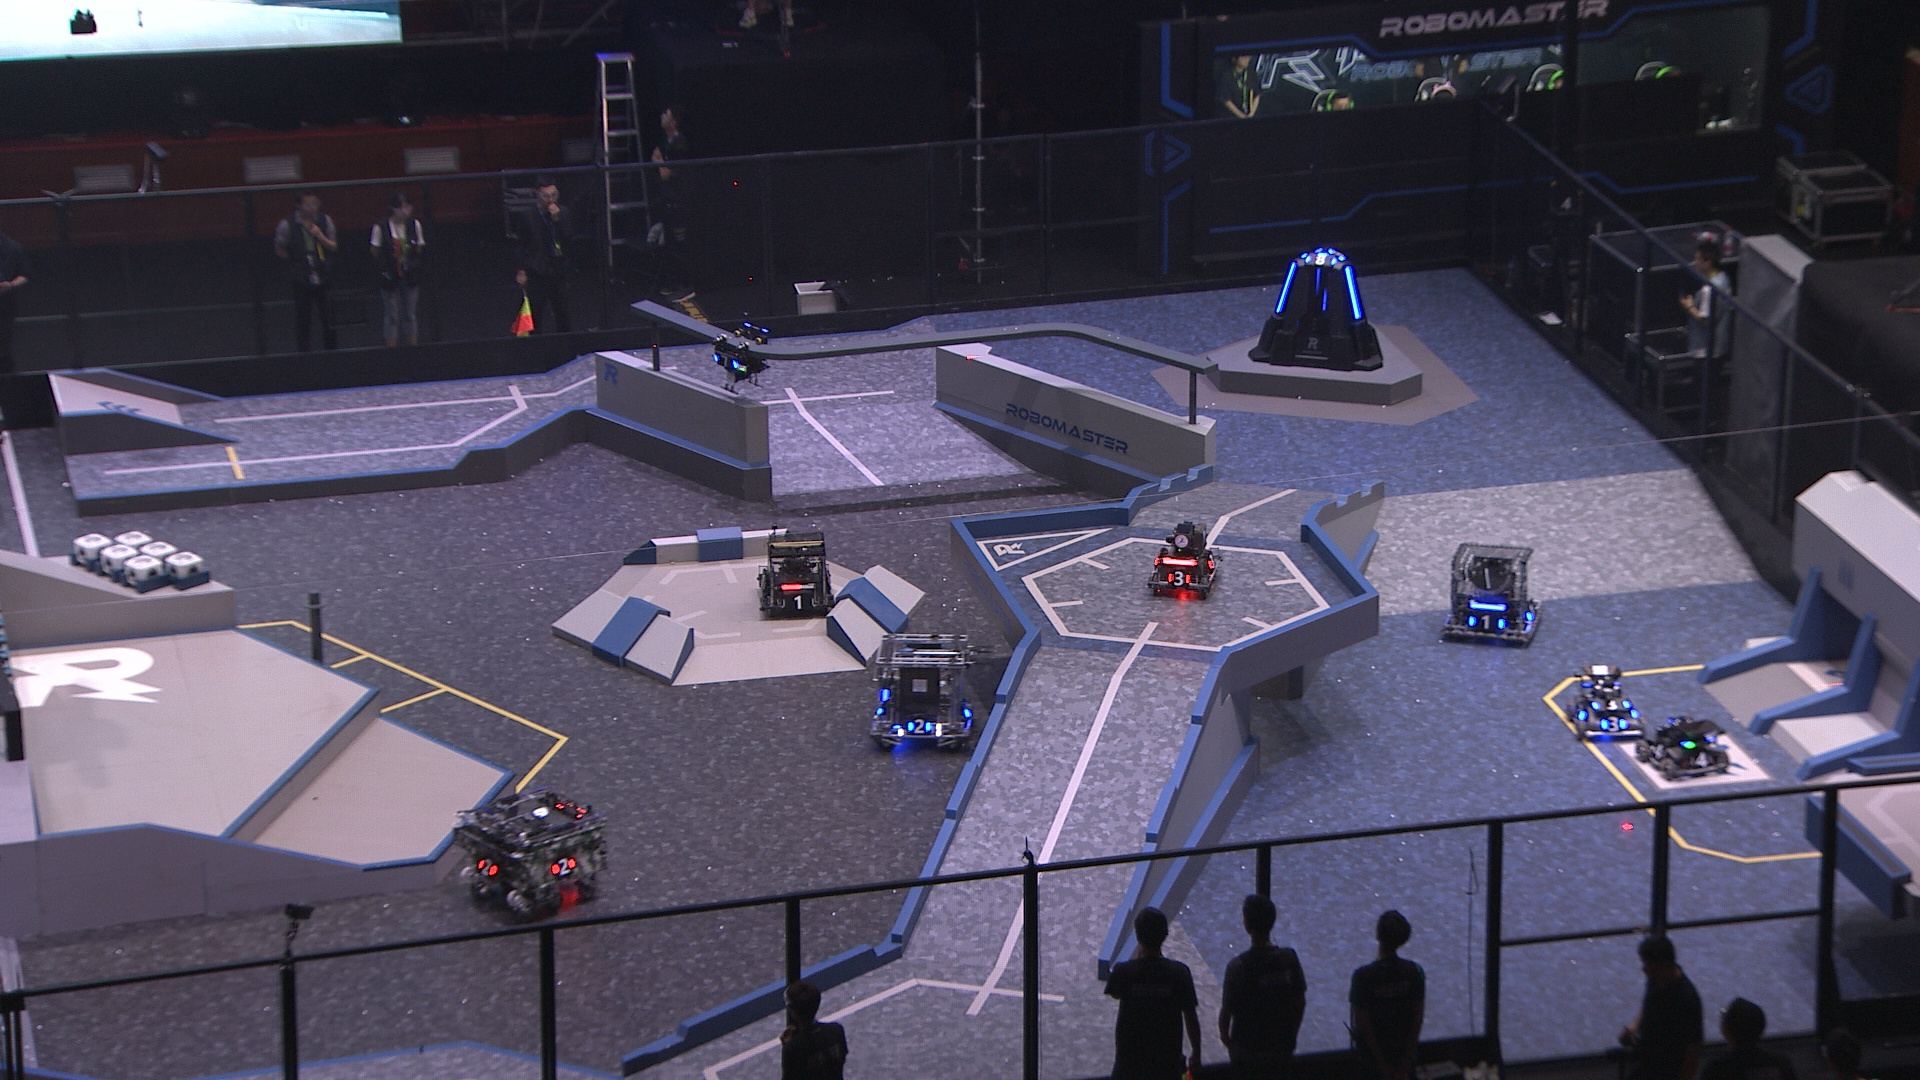armor: (1273, 262, 1295, 310), (1346, 266, 1362, 323), (1466, 613, 1505, 633), (781, 593, 816, 613), (712, 351, 740, 372), (1302, 252, 1337, 266), (1688, 750, 1714, 769), (1647, 738, 1665, 765), (476, 856, 498, 877), (1167, 570, 1192, 588), (1600, 716, 1629, 732), (905, 717, 931, 735), (551, 858, 578, 876), (1572, 702, 1588, 727), (1523, 600, 1536, 626), (1594, 699, 1623, 711), (757, 568, 771, 589), (1207, 553, 1216, 572)
base: (1247, 248, 1387, 375)
car: (454, 790, 611, 920), (866, 633, 978, 750), (1441, 537, 1542, 646), (750, 526, 835, 621), (1636, 712, 1730, 781), (1565, 665, 1647, 740), (1141, 524, 1221, 597)
watcher: (705, 322, 767, 396)
